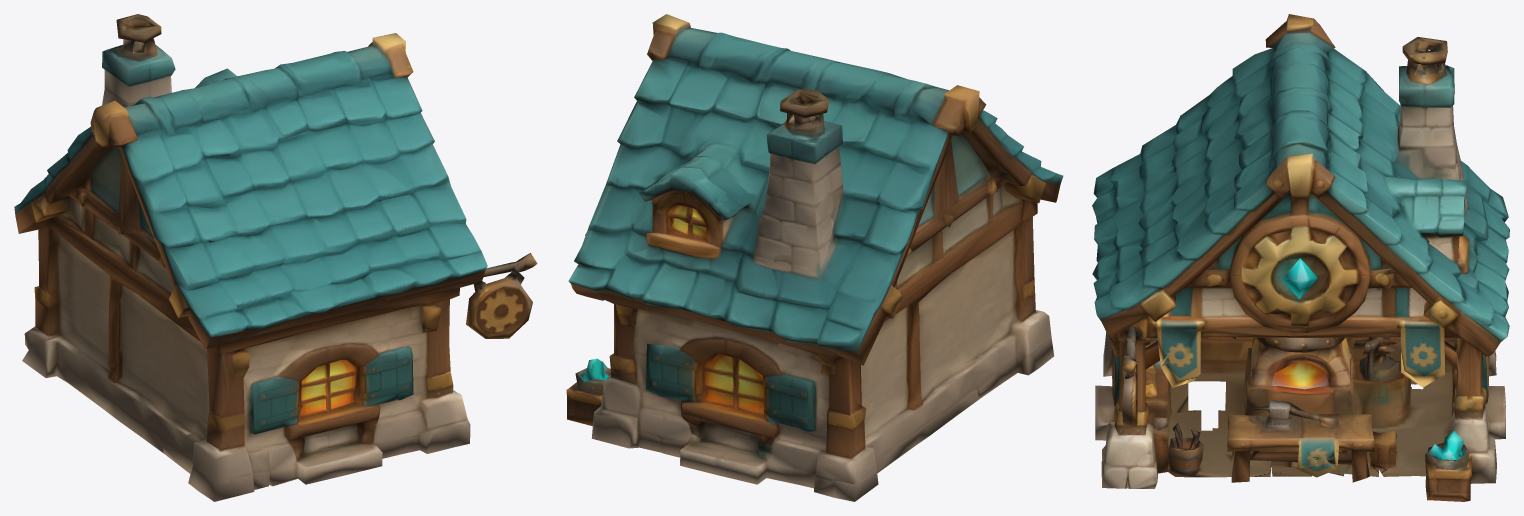
File: X_GuildHall_raw.glb
3 views of the same model, side by side, from view 1: azimuth 30°, elevation 25°; view 2: azimuth 150°, elevation 25°; view 3: azimuth 270°, elevation 25° (orthographic). The views are drawn at different scales.
Parts seen in each view (by area): view 1: tripo_node_ba5f985d-559c-4901-9b0f-57e0564b3506; view 2: tripo_node_ba5f985d-559c-4901-9b0f-57e0564b3506; view 3: tripo_node_ba5f985d-559c-4901-9b0f-57e0564b3506.
Boxes of the visible parts, x1,y1,x2,y2 form: tripo_node_ba5f985d-559c-4901-9b0f-57e0564b3506: [14, 14, 537, 501]; tripo_node_ba5f985d-559c-4901-9b0f-57e0564b3506: [566, 14, 1063, 501]; tripo_node_ba5f985d-559c-4901-9b0f-57e0564b3506: [1092, 14, 1509, 501].
Bounding box in the file's own units: 0.9964 × 0.9367 × 1.
1 material, 1 textured.
